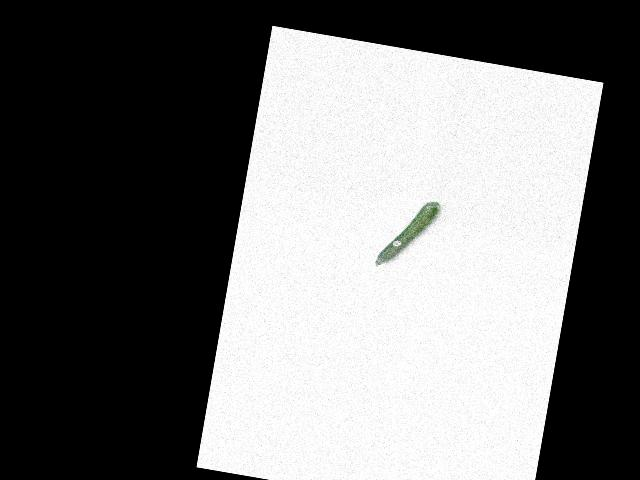cucumber: (374, 194, 440, 275)
